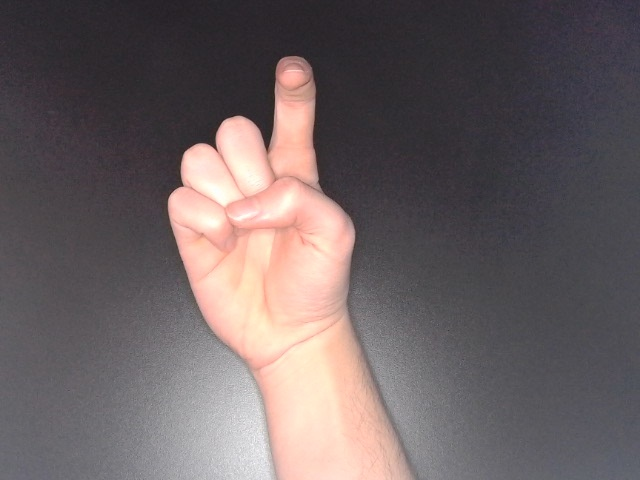x: (159, 50, 363, 378)
